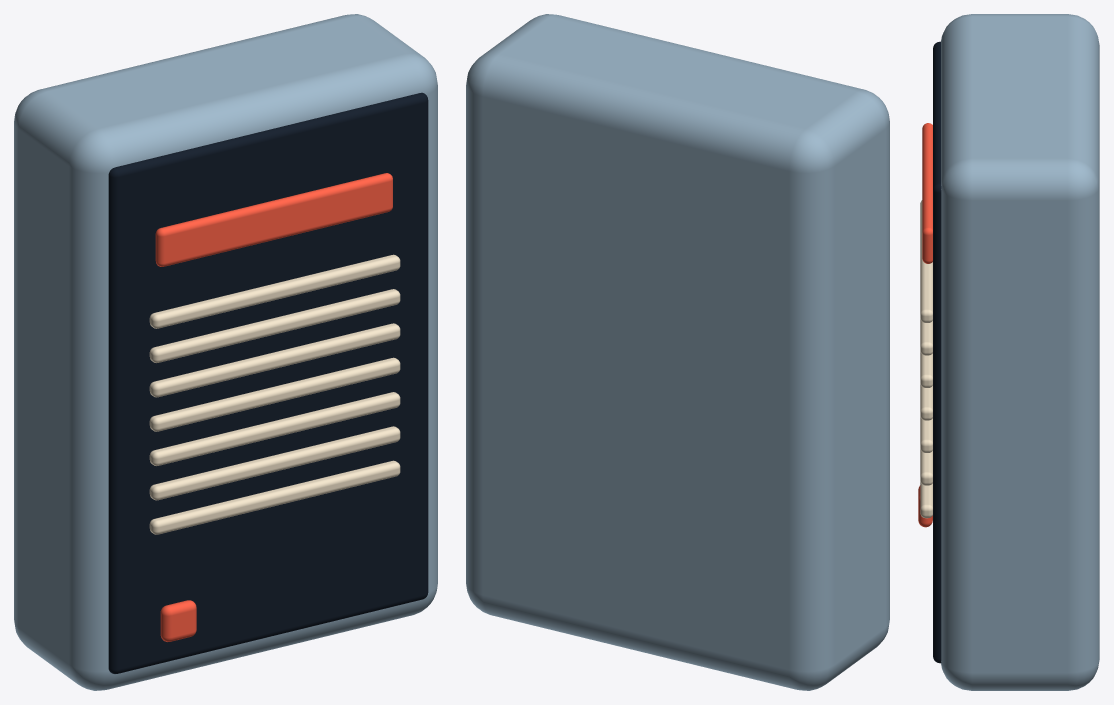
The model's file is speaker-prop.glb.
3 views of the same model, side by side, from view 1: azimuth 30°, elevation 25°; view 2: azimuth 150°, elevation 25°; view 3: azimuth 270°, elevation 25° (orthographic). The views are drawn at different scales.
Visible parts, largest first — view 1: front, body, accent, grille-0, grille-1, grille-3, grille-4, grille-5, grille-2, grille-6, control; view 2: body; view 3: body, front, accent, grille-0, grille-6, grille-3, grille-5, grille-1, grille-2, grille-4.
Part boxes in pixels (left/top/right/bottom): front: left=108, top=92, right=428, bottom=673; body: left=14, top=14, right=437, bottom=690; accent: left=155, top=173, right=392, bottom=266; grille-0: left=149, top=254, right=400, bottom=328; grille-1: left=149, top=289, right=400, bottom=362; grille-3: left=149, top=357, right=400, bottom=431; grille-4: left=149, top=392, right=400, bottom=465; grille-5: left=149, top=426, right=400, bottom=500; grille-2: left=149, top=323, right=400, bottom=397; grille-6: left=149, top=460, right=400, bottom=534; control: left=160, top=600, right=196, bottom=641; body: left=466, top=14, right=889, bottom=690; body: left=941, top=14, right=1099, bottom=690; front: left=933, top=41, right=941, bottom=663; accent: left=922, top=123, right=932, bottom=263; grille-0: left=920, top=200, right=932, bottom=322; grille-6: left=920, top=482, right=932, bottom=518; grille-3: left=920, top=384, right=932, bottom=420; grille-5: left=920, top=449, right=932, bottom=485; grille-1: left=920, top=319, right=932, bottom=355; grille-2: left=920, top=351, right=932, bottom=387; grille-4: left=920, top=416, right=932, bottom=452.
Size of the model in its own units: 1.5 by 2.2 by 0.6825.
